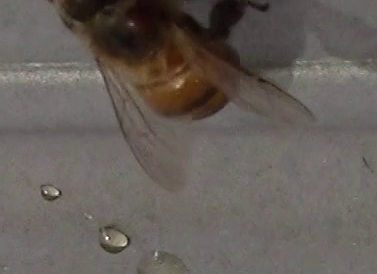Varroa destructor: (119, 6, 157, 37)
